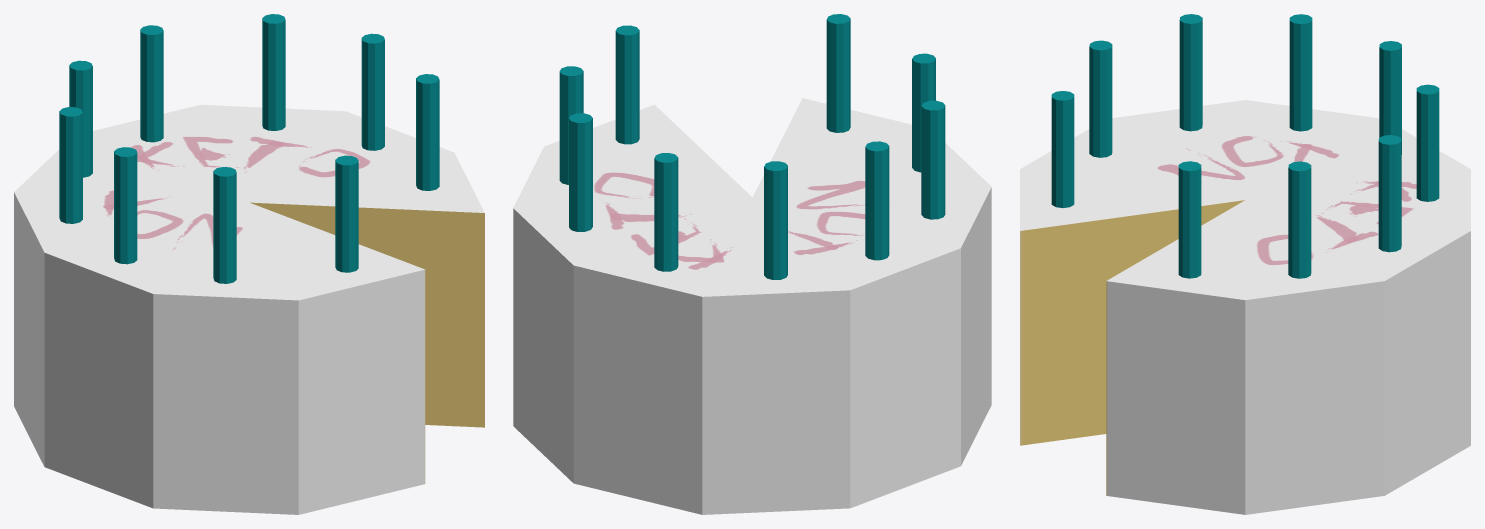
File: Cake.fbx
3 views of the same model, side by side, from view 1: azimuth 30°, elevation 25°; view 2: azimuth 150°, elevation 25°; view 3: azimuth 270°, elevation 25° (orthographic).
Parts seen in each view (by area): view 1: Cake, Candle05, Candle01, Candle03, Candle08, Candle04, Candle09, Candle02, Candle07, Candle06; view 2: Cake, Candle02, Candle08, Candle07, Candle05, Candle01, Candle04, Candle06, Candle03, Candle09; view 3: Cake, Candle02, Candle01, Candle03, Candle05, Candle07, Candle09, Candle08, Candle04, Candle06.
Boxes of the visible parts, x1=… form: Cake: x1=14, y1=104, x2=484, y2=514; Candle05: x1=140, y1=25, x2=163, y2=142; Candle01: x1=335, y1=155, x2=358, y2=272; Candle03: x1=361, y1=33, x2=384, y2=150; Candle08: x1=114, y1=147, x2=137, y2=264; Candle04: x1=262, y1=14, x2=285, y2=130; Candle09: x1=213, y1=167, x2=236, y2=283; Candle02: x1=416, y1=74, x2=439, y2=190; Candle07: x1=59, y1=107, x2=82, y2=223; Candle06: x1=69, y1=60, x2=92, y2=177; Cake: x1=513, y1=98, x2=991, y2=514; Candle02: x1=615, y1=25, x2=639, y2=144; Candle08: x1=921, y1=100, x2=945, y2=219; Candle07: x1=865, y1=141, x2=889, y2=260; Candle05: x1=654, y1=153, x2=678, y2=271; Candle01: x1=826, y1=14, x2=850, y2=132; Candle04: x1=569, y1=113, x2=592, y2=231; Candle06: x1=764, y1=161, x2=787, y2=279; Candle03: x1=559, y1=66, x2=583, y2=184; Candle09: x1=912, y1=53, x2=935, y2=172; Cake: x1=1020, y1=100, x2=1470, y2=514; Candle02: x1=1178, y1=161, x2=1201, y2=278; Candle01: x1=1051, y1=91, x2=1074, y2=207; Candle03: x1=1288, y1=161, x2=1311, y2=278; Candle05: x1=1416, y1=84, x2=1439, y2=201; Candle07: x1=1289, y1=14, x2=1312, y2=131; Candle09: x1=1089, y1=40, x2=1112, y2=157; Candle08: x1=1179, y1=14, x2=1202, y2=131; Candle04: x1=1378, y1=135, x2=1401, y2=252; Candle06: x1=1379, y1=41, x2=1401, y2=154.
Bounding box in the file's own units: 2 × 1.5 × 1.9.
